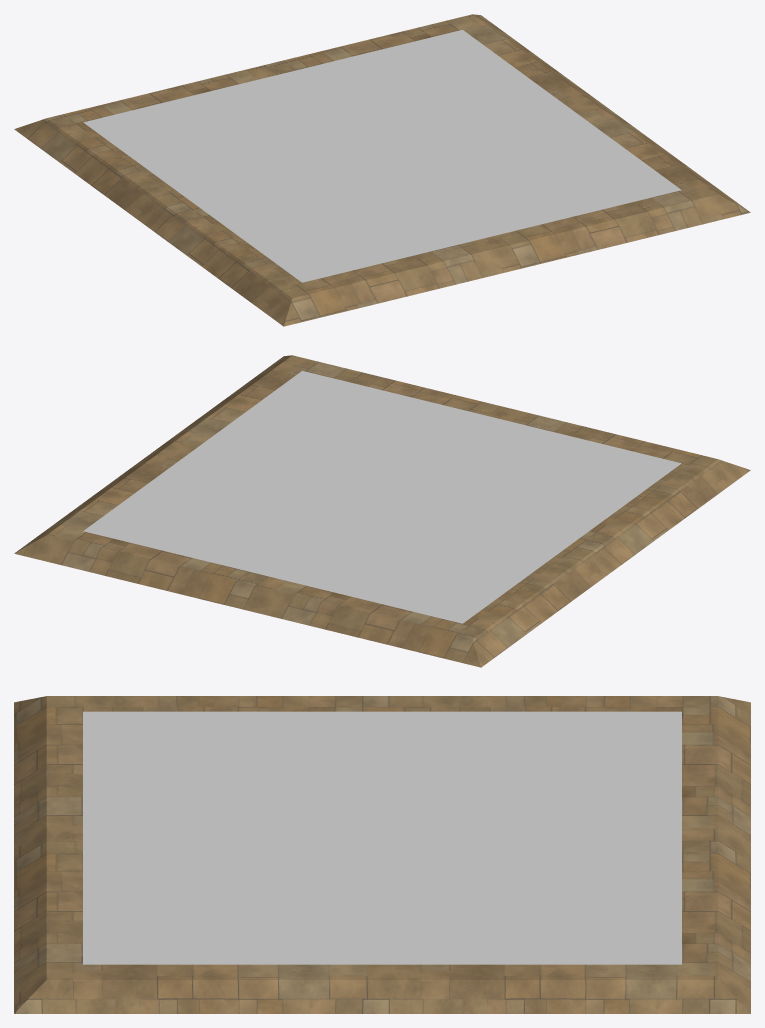
File: TriggerArea.fbx
The picture shows the model from 3 angles, top to bottom: view 1: azimuth 30°, elevation 25°; view 2: azimuth 150°, elevation 25°; view 3: azimuth 270°, elevation 25°; orthographic projection. The views are drawn at different scales.
Visible parts, largest first — view 1: TriggerArea; view 2: TriggerArea; view 3: TriggerArea.
Part boxes in pixels (x1,y1,x2,y2): TriggerArea: (14, 14, 750, 326); TriggerArea: (14, 355, 750, 667); TriggerArea: (14, 696, 750, 1013).
Size of the model in its own units: 200 by 6 by 200.
